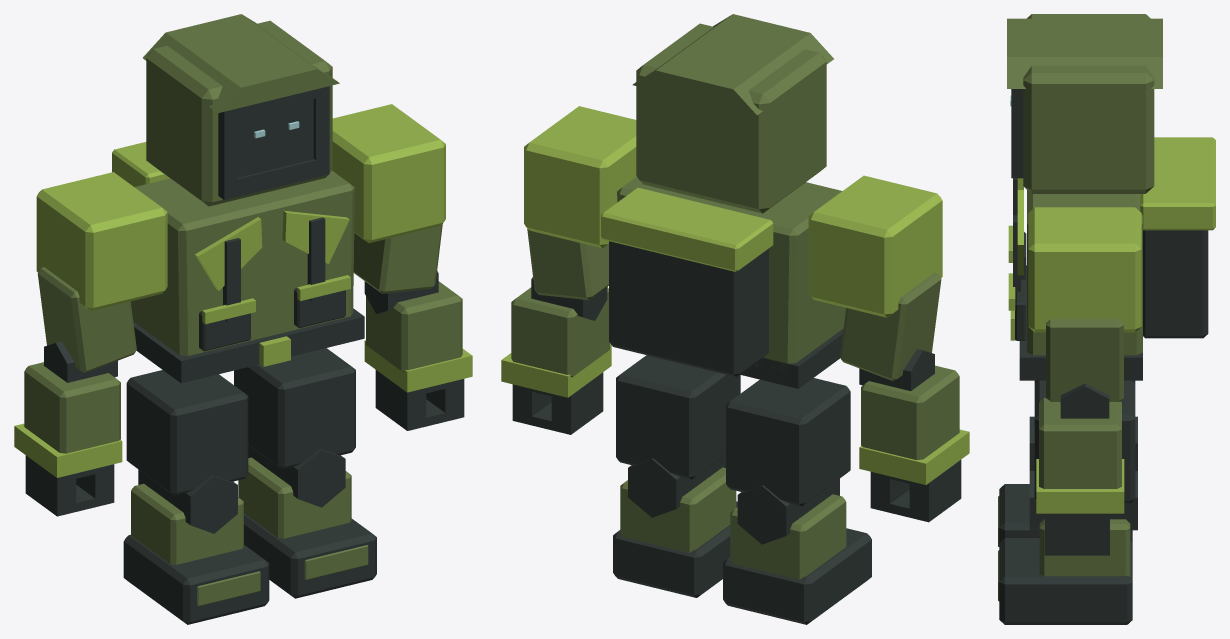
3 renders of one model, left to right at view 1: azimuth 30°, elevation 25°; view 2: azimuth 150°, elevation 25°; view 3: azimuth 270°, elevation 25°, orthographic. The views are drawn at different scales.
Parts seen in each view (by area): view 1: Jaqueta, Ombro, Coxa.001, Ombro.001, Coxa, Cabeça encapuzada, Viseira do capuz, Bota.001, Antebraço.001, Antebraço, Braço.001, Bota (+26 smaller); view 2: Cabeça encapuzada, Mochila de exploração, Ombro, Coxa.001, Ombro.001, Coxa, Jaqueta, Viseira do capuz, Tampa da mochila, Bota.001, Antebraço.001, Braço.001 (+14 smaller); view 3: Cabeça encapuzada, Ombro.001, Viseira do capuz, Bota, Mochila de exploração, Antebraço, Tampa da mochila, Braço, Jaqueta, Canela, Mão de avatar.001, Punho.001 (+10 smaller).
Boxes of the visible parts, x1,y1,x2,y2 form: Jaqueta: (130, 170, 354, 355); Ombro: (36, 172, 167, 311); Coxa.001: (126, 370, 248, 495); Ombro.001: (332, 104, 445, 243); Coxa: (234, 348, 355, 469); Cabeça encapuzada: (146, 20, 332, 206); Viseira do capuz: (143, 14, 339, 113); Bota.001: (123, 534, 269, 624); Antebraço.001: (24, 362, 120, 453); Antebraço: (366, 281, 462, 372); Braço.001: (37, 267, 136, 373); Bota: (244, 513, 376, 598); Cabeça encapuzada: (636, 23, 826, 213); Mochila de exploração: (609, 241, 768, 376); Ombro: (808, 175, 942, 317); Coxa.001: (726, 378, 850, 506); Ombro.001: (524, 106, 636, 248); Coxa: (616, 355, 740, 479); Jaqueta: (617, 177, 846, 372); Viseira do capuz: (632, 14, 833, 115); Tampa da mochila: (601, 187, 773, 271); Bota.001: (723, 528, 871, 624); Antebraço.001: (861, 365, 959, 460); Braço.001: (840, 272, 941, 381); Cabeça encapuzada: (1023, 14, 1154, 193); Ombro.001: (1028, 207, 1141, 332); Viseira do capuz: (1007, 18, 1162, 88); Bota: (999, 538, 1132, 624); Mochila de exploração: (1143, 230, 1208, 338); Antebraço: (1039, 398, 1121, 488); Tampa da mochila: (1140, 137, 1215, 230); Braço: (1046, 319, 1123, 401); Jaqueta: (1027, 190, 1142, 355); Canela: (1039, 519, 1130, 576); Mão de avatar.001: (1044, 513, 1109, 555); Punho.001: (1036, 459, 1124, 513).
Size of the model in its own units: 1.97 by 2.37 by 0.865.
